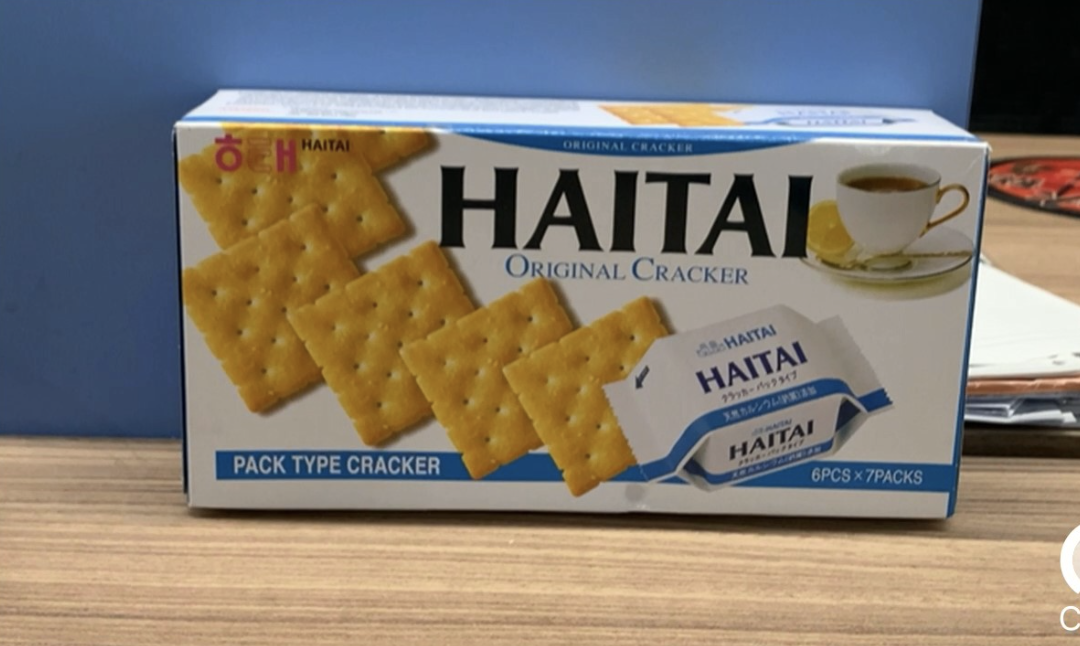crackers_150g: (200, 141, 946, 508)
